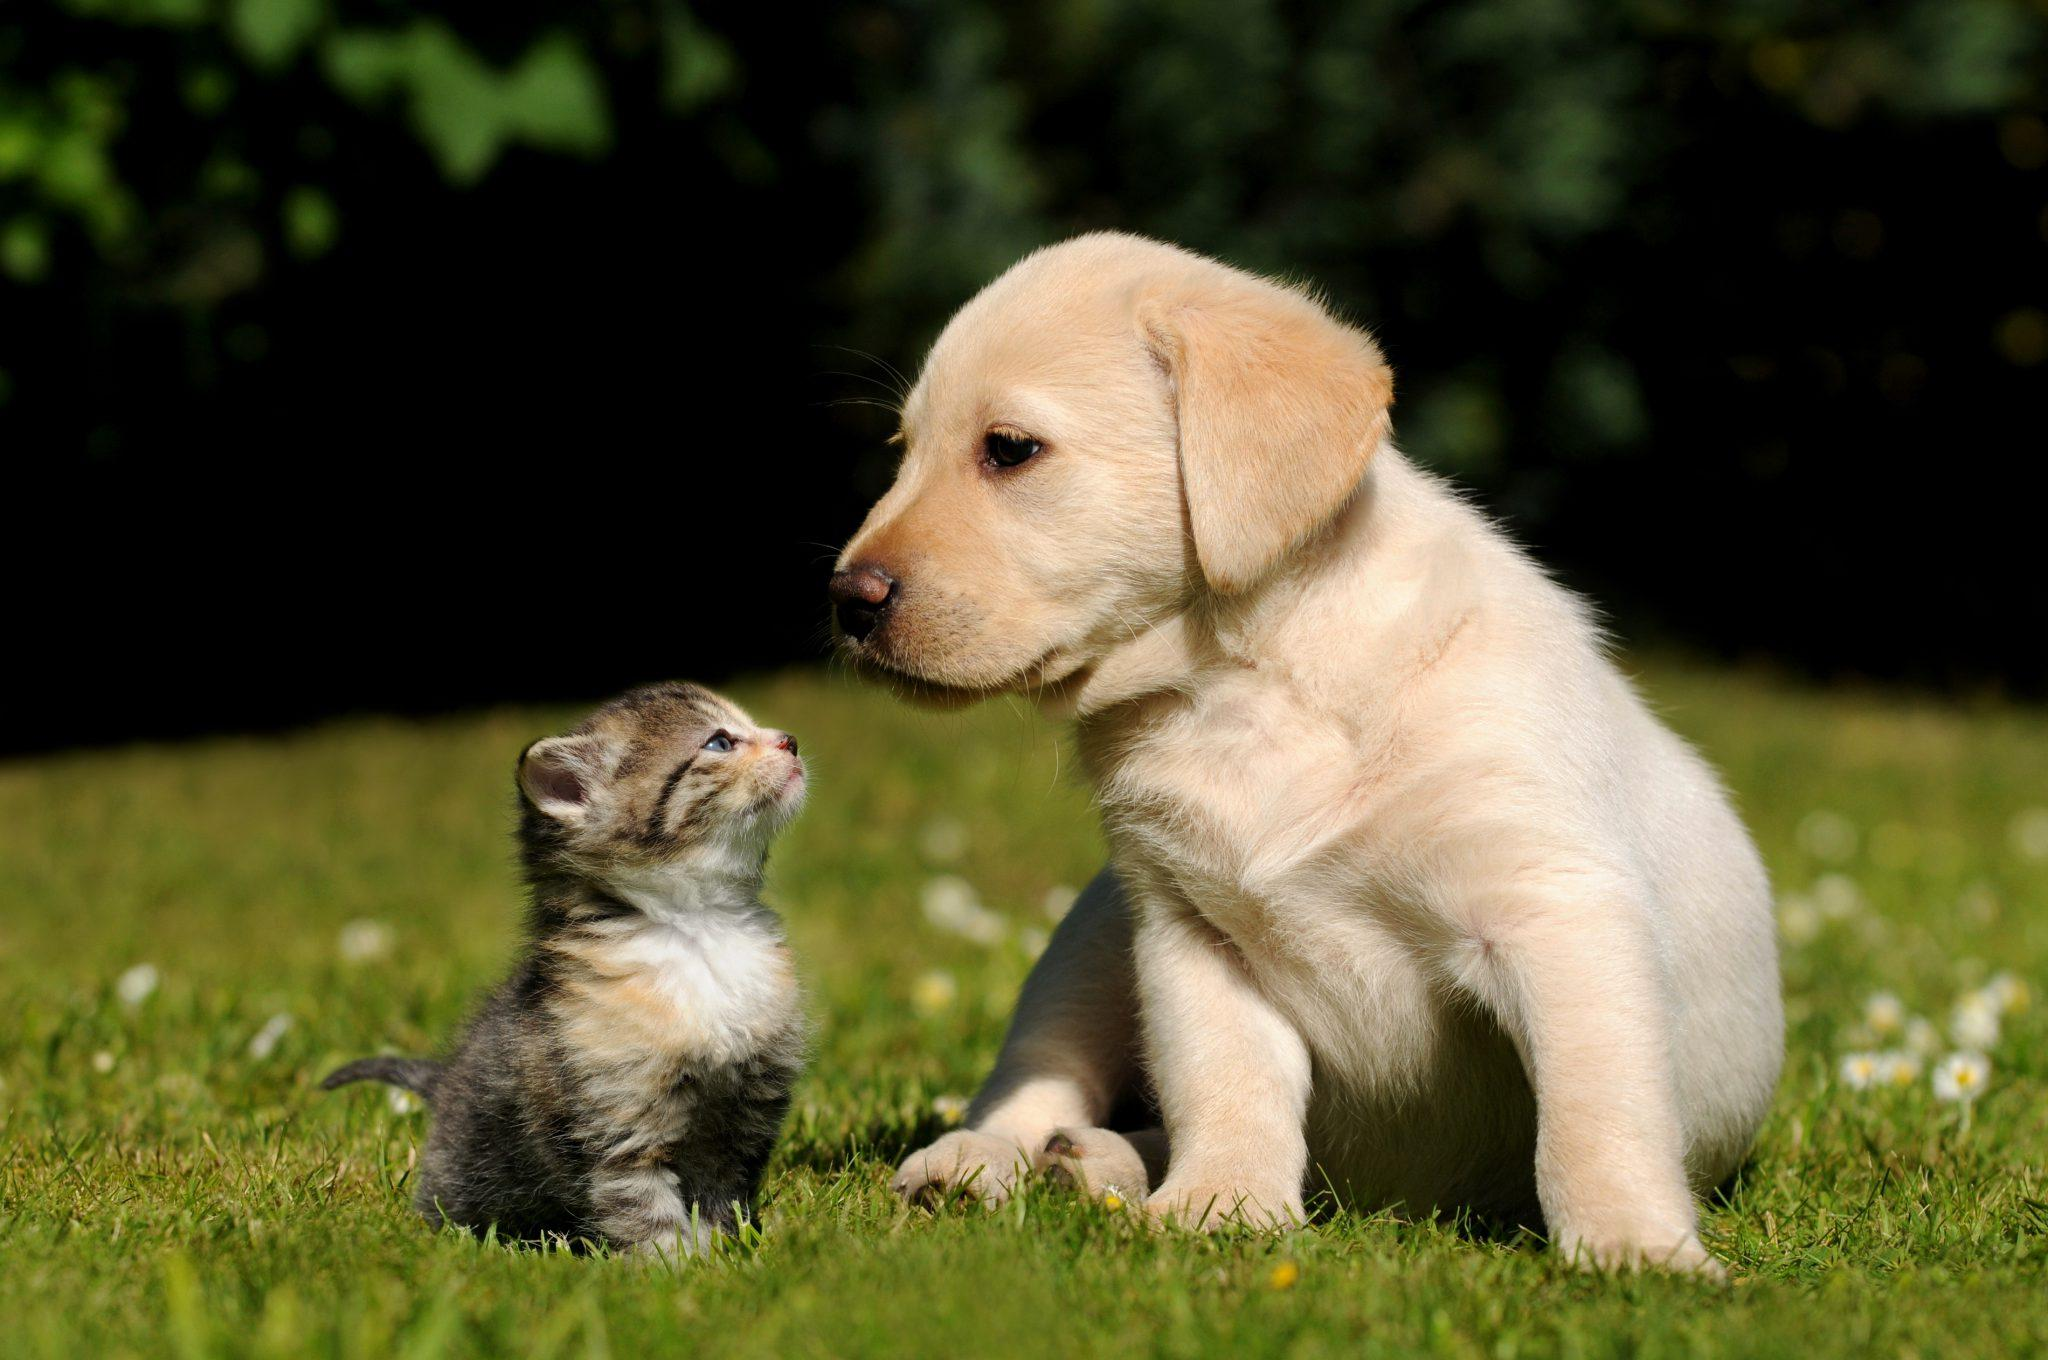cat: (325, 642, 904, 1302)
dog: (724, 219, 1936, 1260)
